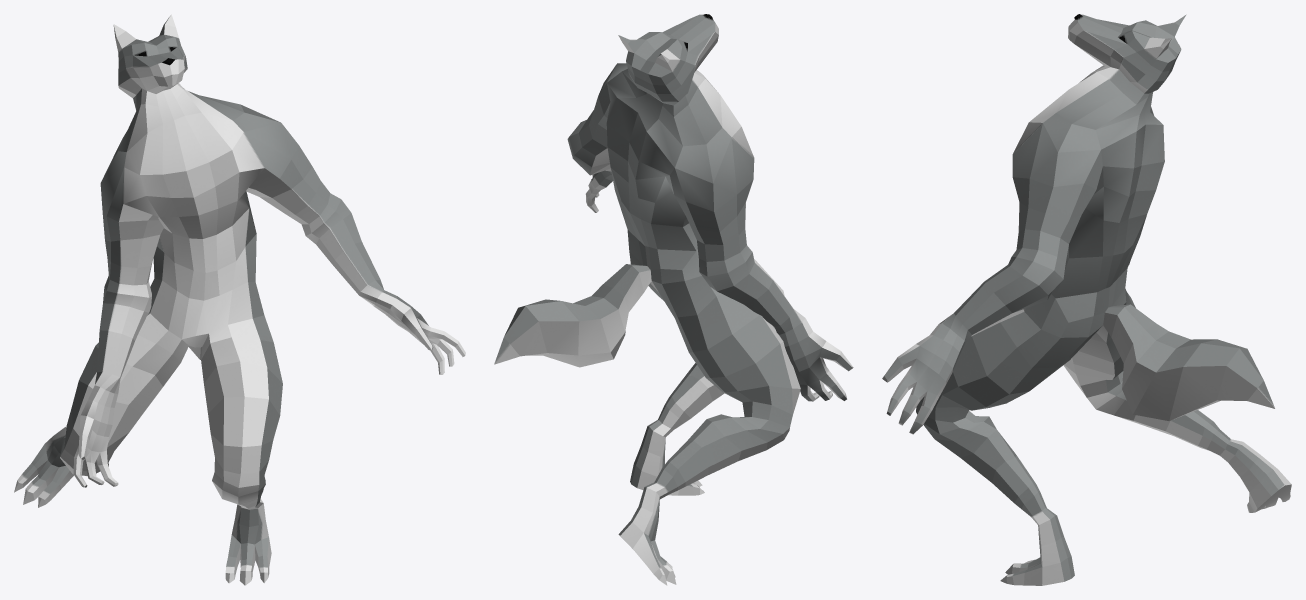
The model's file is WolfDead(15).obj.
3 renders of one model, left to right at view 1: azimuth 30°, elevation 25°; view 2: azimuth 150°, elevation 25°; view 3: azimuth 270°, elevation 25°, orthographic. The views are drawn at different scales.
Visible parts, largest first — view 1: Box001; view 2: Box001; view 3: Box001.
Boxes of the visible parts, bbox=[...] form: Box001: bbox=[14, 14, 465, 585]; Box001: bbox=[494, 14, 853, 585]; Box001: bbox=[882, 14, 1291, 585].
Bounding box in the file's own units: 91.48 × 138 × 95.22.
